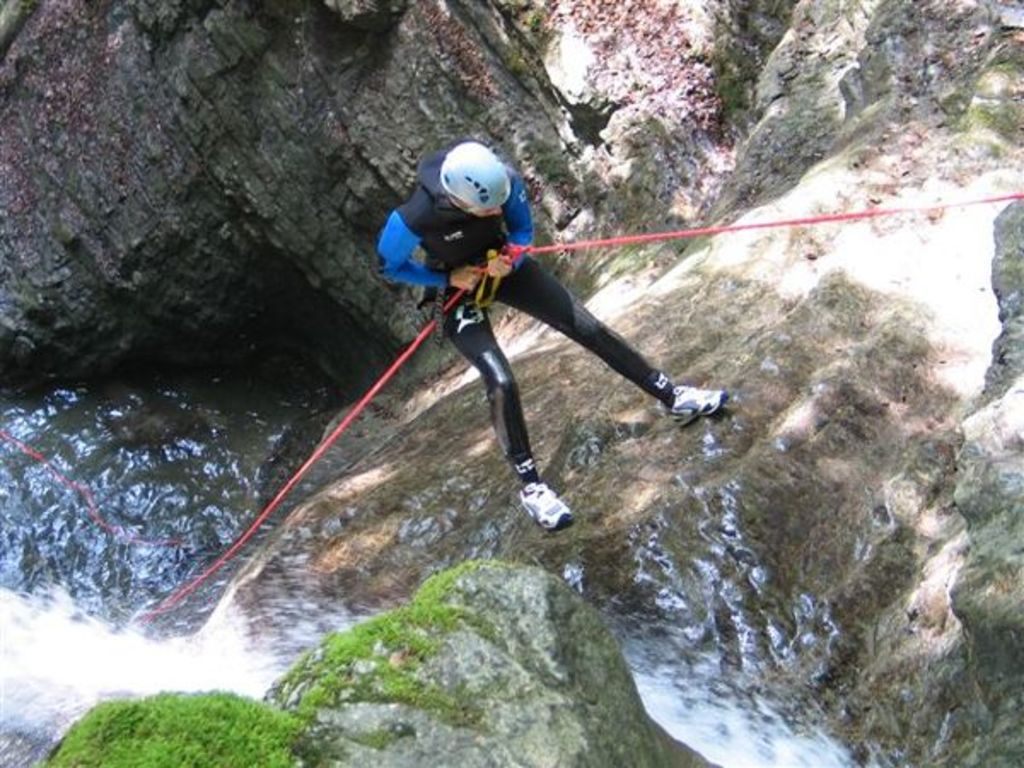Person: (375, 137, 729, 530)
